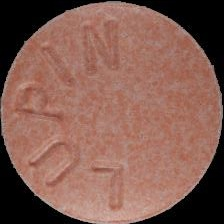33261-935: (0, 0, 224, 224)
